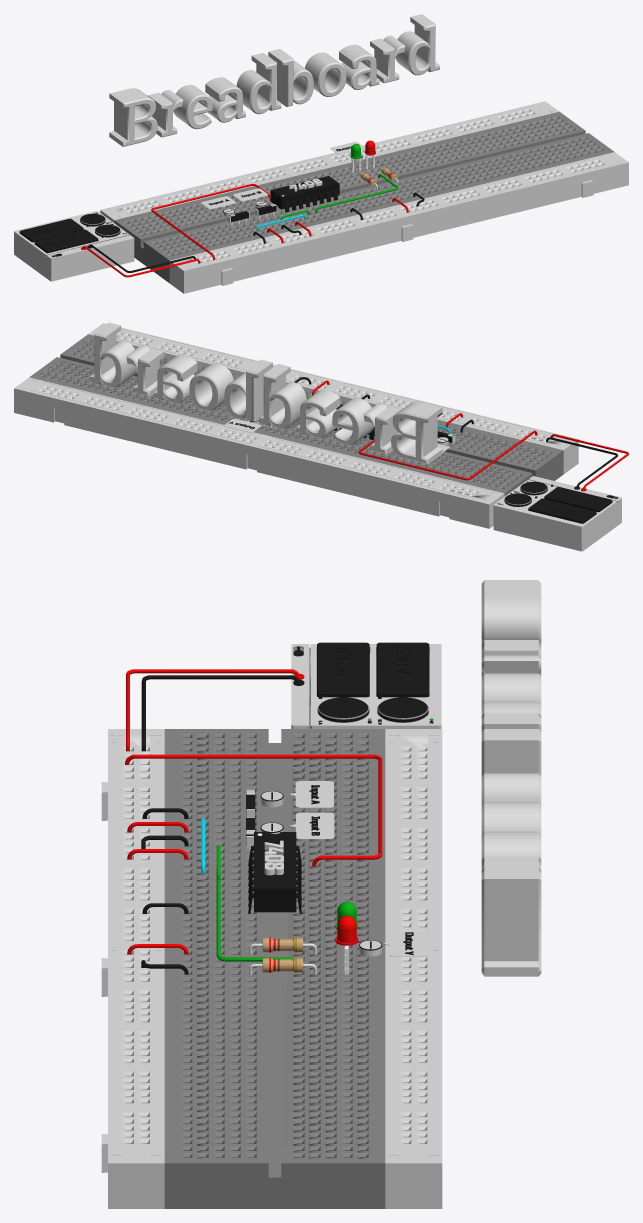
3 renders of one model, top to bottom at view 1: azimuth 30°, elevation 25°; view 2: azimuth 150°, elevation 25°; view 3: azimuth 270°, elevation 25°, orthographic. The views are drawn at different scales.
Visible parts, largest first — view 1: Main_Board, Mirror4_instance, Breadboard, Mirror4, Face, Cylinder_1, IC, Red_Wire_2_3; view 2: Mirror4, Breadboard, Main_Board, Mirror4_instance, Face, Cylinder_1, Red_Wire_2_3, Red_Wire, Red_Wire_1; view 3: Main_Board, Mirror4_instance, Mirror4, Breadboard, Cylinder_1, Face, IC, Red_Wire_2_3, Red_Wire, Red_Wire_1, Extrude_7, Extrude_9 (+1 smaller).
Part boxes in pixels (x1,y1,x2,y2): Main_Board: [114, 111, 614, 282]; Mirror4_instance: [169, 152, 628, 293]; Breadboard: [109, 14, 439, 146]; Mirror4: [100, 101, 558, 223]; Face: [14, 211, 134, 281]; Cylinder_1: [19, 213, 120, 253]; IC: [270, 176, 339, 212]; Red_Wire_2_3: [151, 183, 270, 260]; Mirror4: [14, 377, 504, 528]; Breadboard: [89, 322, 442, 464]; Main_Board: [29, 334, 563, 496]; Mirror4_instance: [88, 323, 578, 473]; Face: [493, 476, 621, 551]; Cylinder_1: [504, 481, 612, 523]; Red_Wire_2_3: [358, 430, 537, 480]; Red_Wire: [550, 434, 628, 489]; Red_Wire_1: [546, 437, 617, 487]; Main_Board: [164, 729, 385, 1208]; Mirror4_instance: [101, 729, 164, 1208]; Mirror4: [385, 729, 442, 1208]; Breadboard: [481, 580, 541, 976]; Cylinder_1: [317, 642, 429, 722]; Face: [291, 644, 441, 728]; IC: [248, 832, 301, 913]; Red_Wire_2_3: [125, 754, 382, 866]; Red_Wire: [126, 669, 300, 751]; Red_Wire_1: [141, 675, 300, 751]; Extrude_7: [289, 812, 334, 839]; Extrude_9: [289, 781, 333, 807].
Bounding box in the file's own units: 454 × 95.18 × 162.
